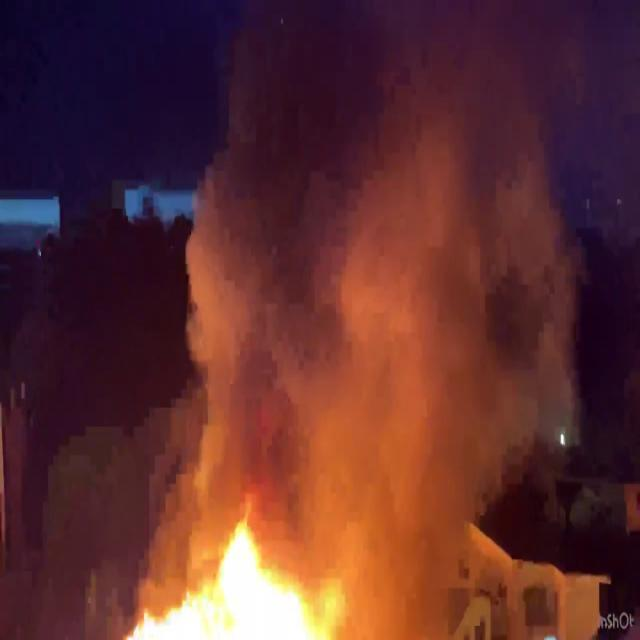Fire: (122, 512, 354, 640)
Smoke: (160, 11, 596, 538)
